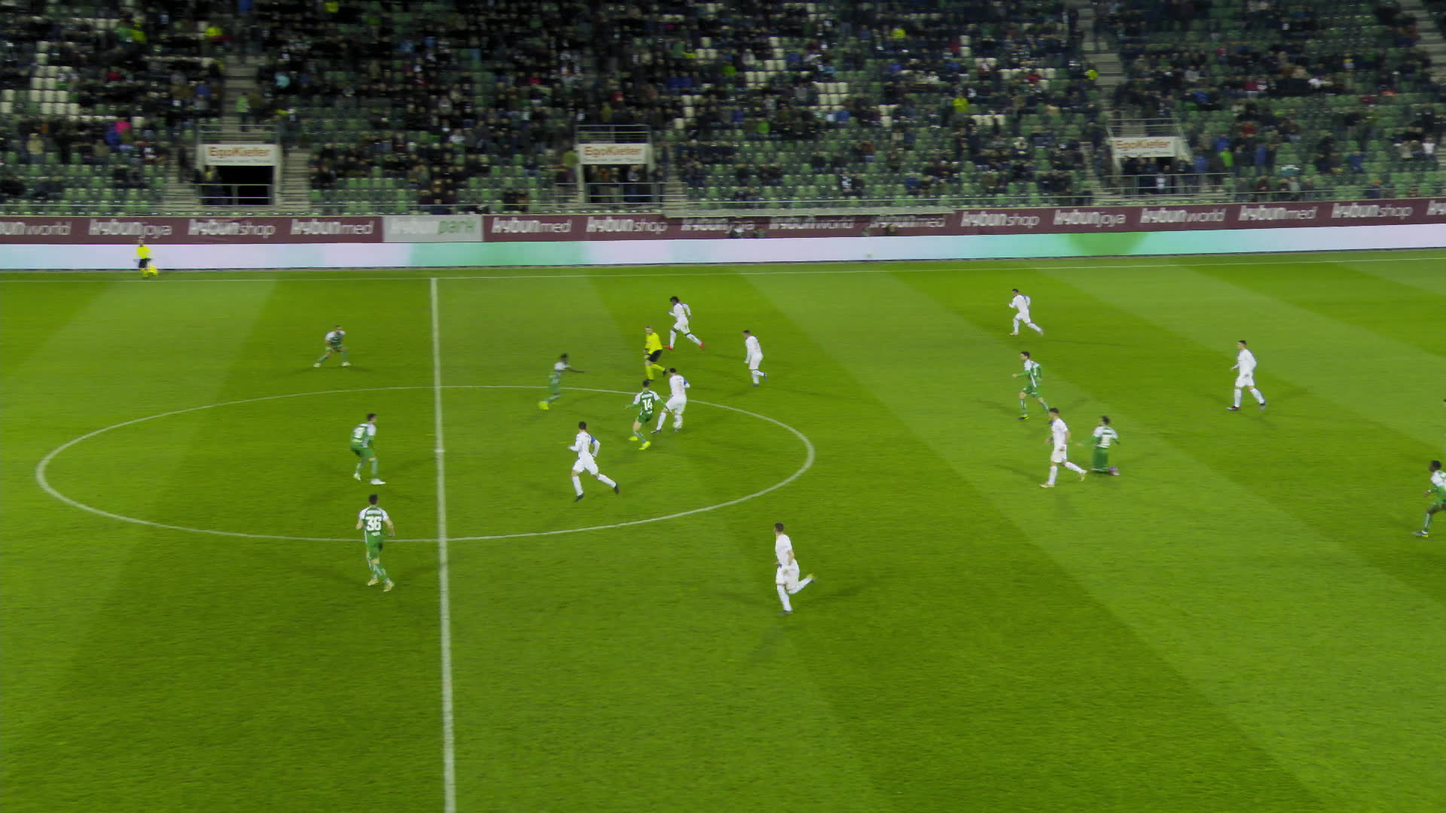ball: (670, 416, 682, 428)
player: (338, 480, 404, 599), (763, 521, 824, 614), (562, 421, 619, 503), (1406, 446, 1445, 558), (340, 409, 383, 494), (614, 379, 663, 450), (1036, 406, 1077, 489), (1216, 338, 1260, 410), (1005, 352, 1048, 421), (1072, 416, 1121, 475), (541, 345, 581, 410), (651, 370, 692, 432), (734, 326, 773, 389), (664, 294, 706, 351), (307, 321, 352, 373), (1005, 288, 1043, 340), (1440, 400, 1445, 473)
referee: (626, 323, 672, 383), (124, 234, 153, 279)
